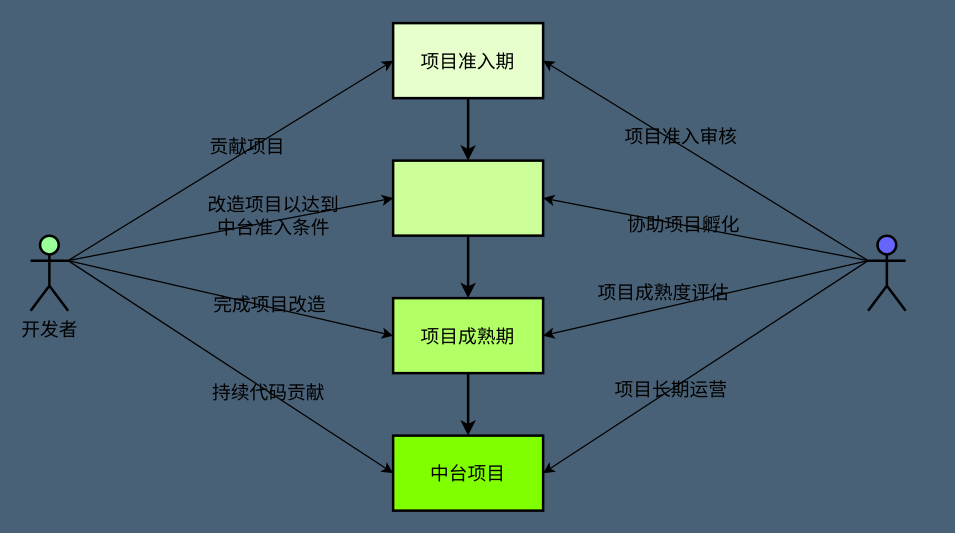
Image size: 955x533. Some labels were removed from this diagram. The shapes that lost their labels are listed below. From the top down, each one's box as (x1, y1, x2, y2) in pixels, then its label:
(391, 159, 544, 236): 项目孵化期
(866, 234, 906, 311): 中台管理员
